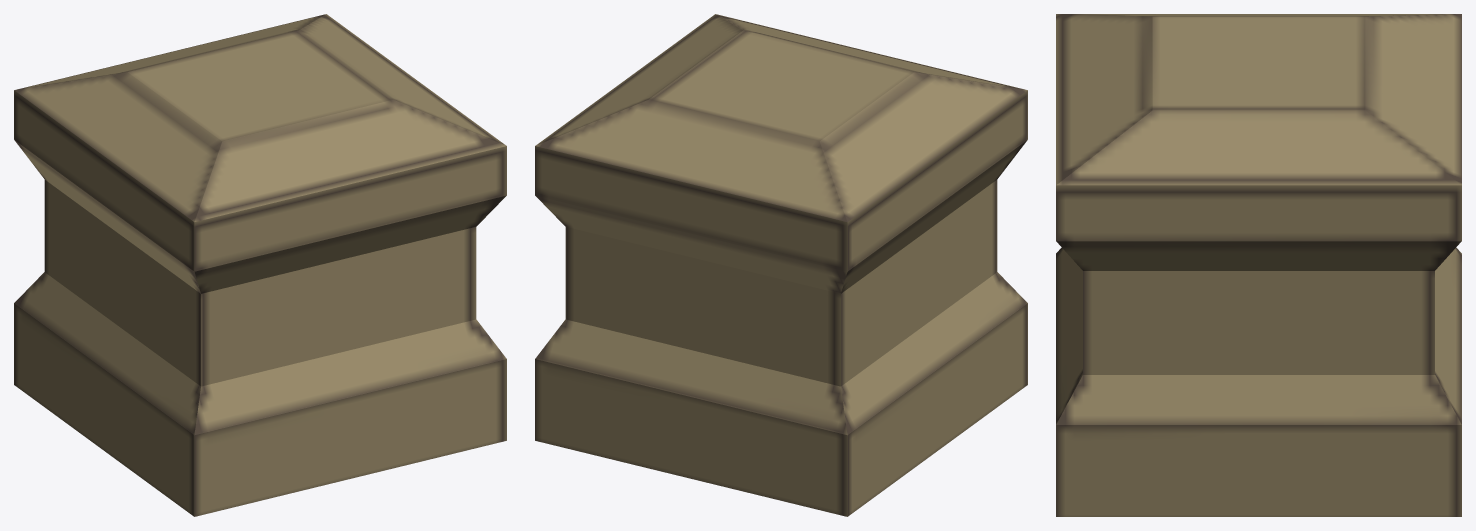
File: wall.obj
The picture shows the model from 3 angles, left to right: view 1: azimuth 30°, elevation 25°; view 2: azimuth 150°, elevation 25°; view 3: azimuth 270°, elevation 25°; orthographic projection. The views are drawn at different scales.
Visible parts, largest first — view 1: Cube; view 2: Cube; view 3: Cube.
Boxes of the visible parts, box(x1,y1,x2,y2) form: Cube: box(14, 14, 506, 516); Cube: box(535, 14, 1027, 516); Cube: box(1056, 14, 1461, 516).
Bounding box in the file's own units: 2 × 2 × 2.
1 material, 1 textured.
